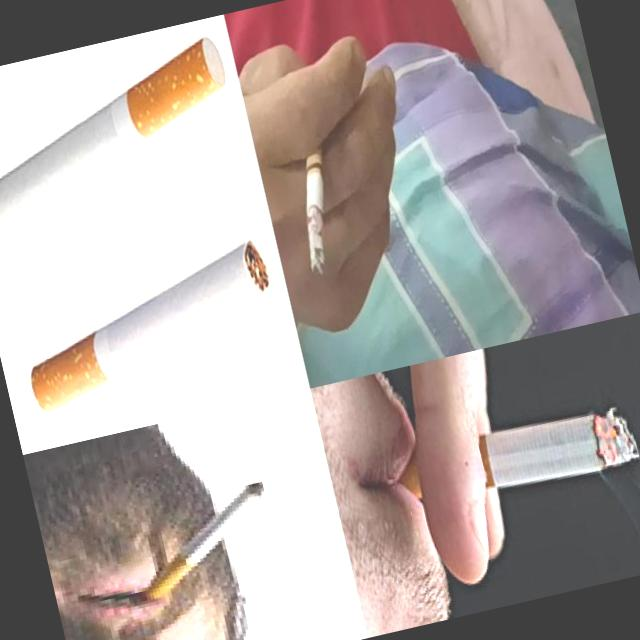smoke: (0, 34, 251, 241), (10, 238, 288, 416), (376, 392, 640, 519), (124, 478, 286, 604), (278, 124, 355, 280)
